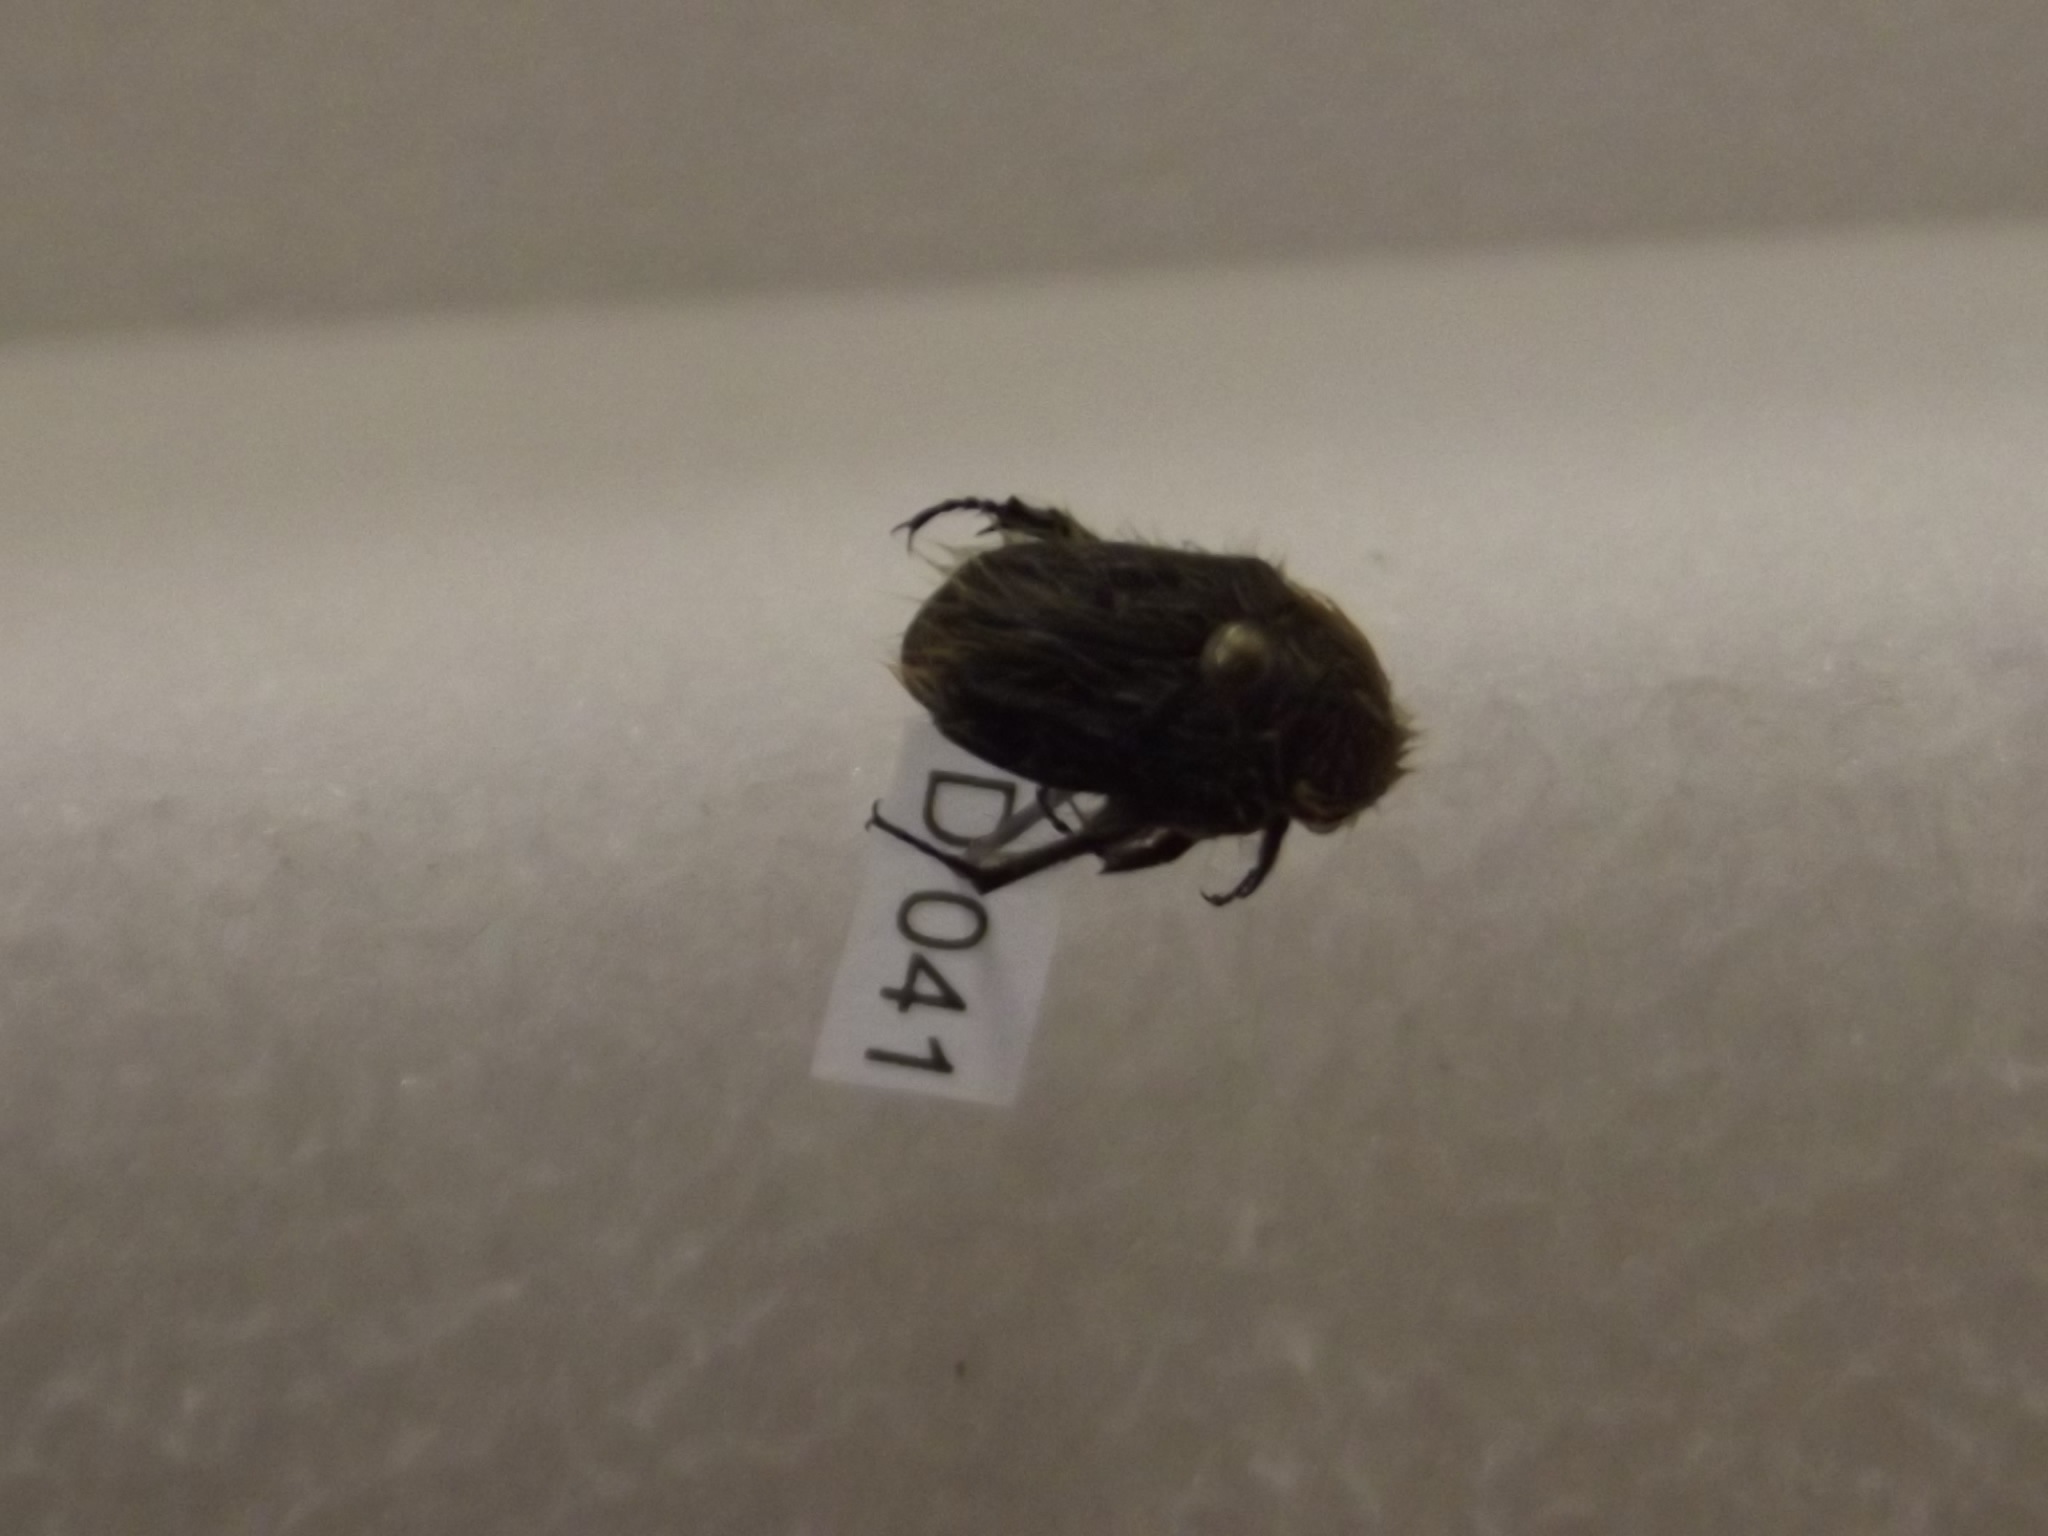Tropinota_senicula: (864, 465, 1447, 912)
